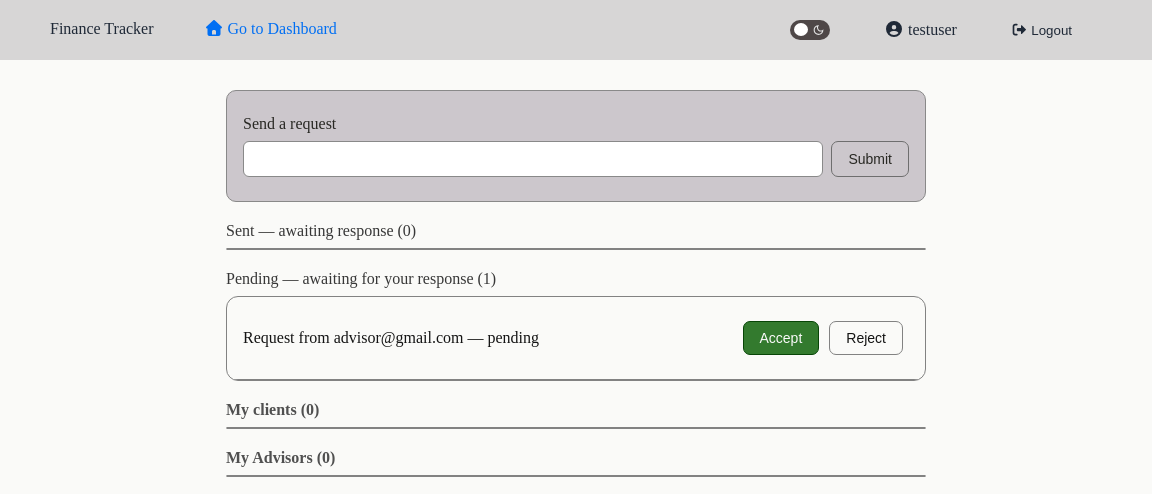
Links Page › moves an accepted link to My Clients
This screenshot has width=1152, height=494.
Check: the text "Request from advisor@gmail.com — pending" is shown, box [243, 329, 539, 347]
Click the button "Accept" at x=781, y=338, box [742, 321, 819, 355]
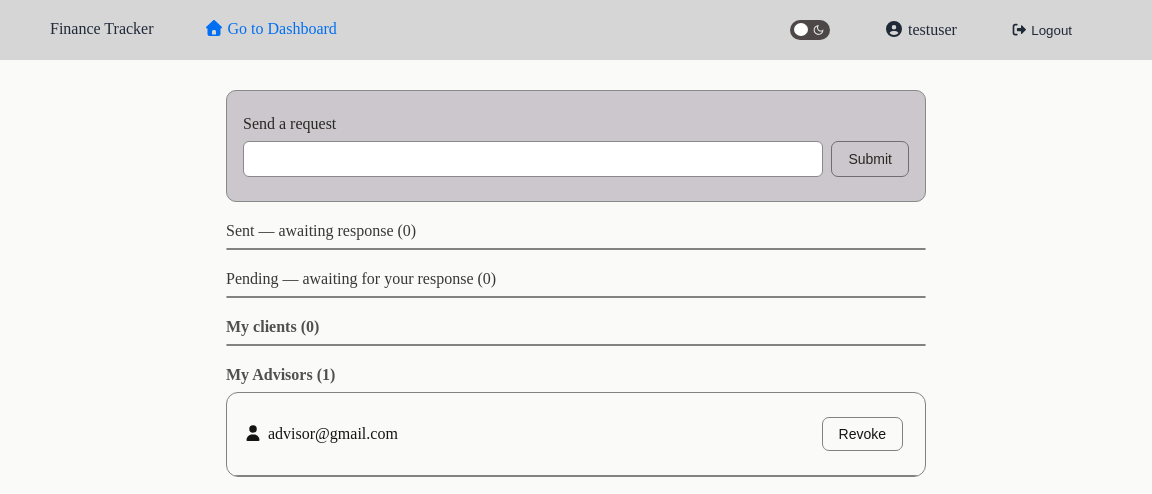
Check: the text "advisor@gmail.com" is shown, box [268, 425, 398, 443]
Check: the text "Request from advisor@gmail.com — pending" is gone
